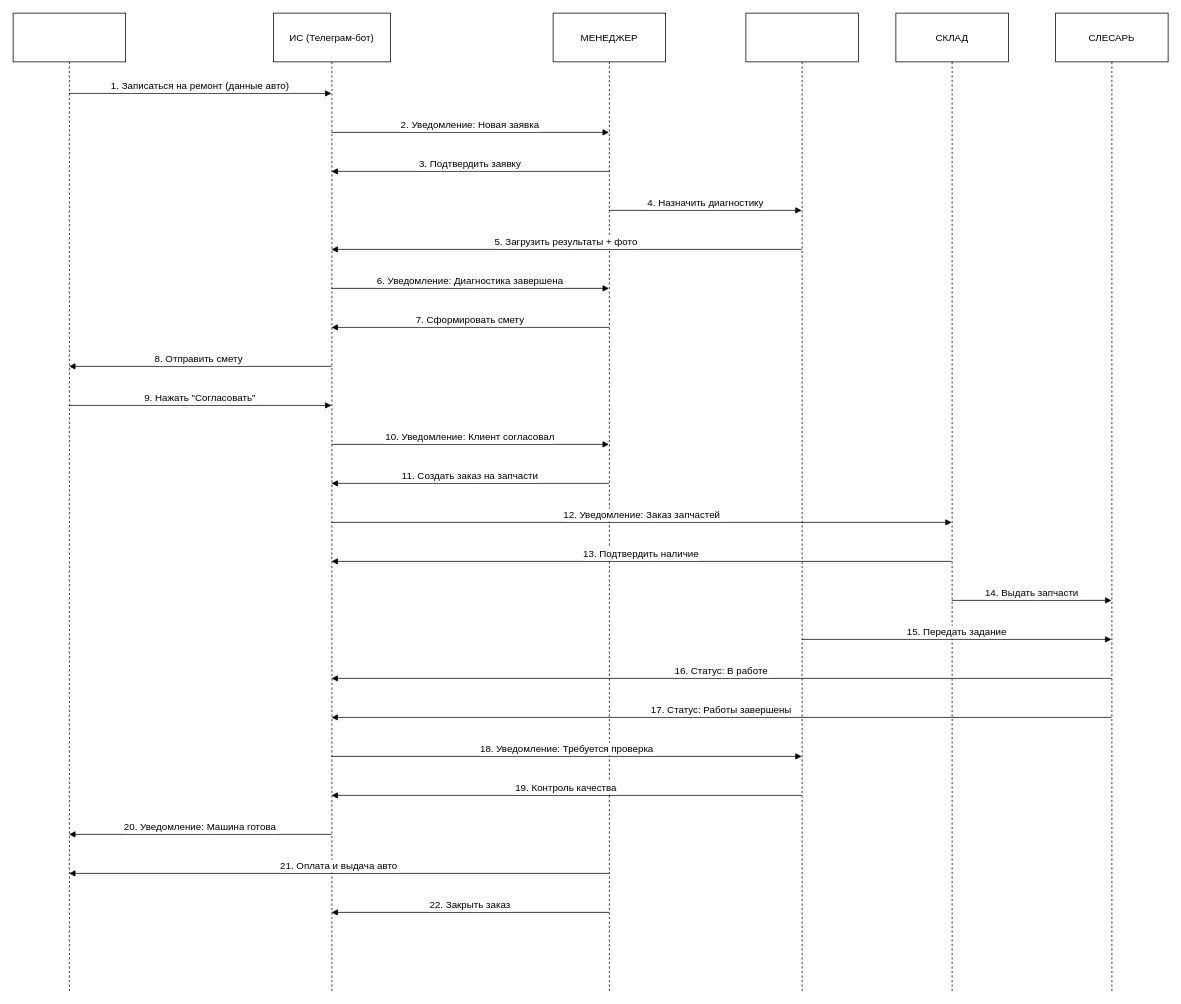
Image size: 1181x1004. Some labels were removed from this diagram. The shapes that lost their labels are listed below. From the top down, each one's box as (x1, y1, x2, y2) in pixels, then its label:
(12, 12, 126, 991): КЛИЕНТ
(745, 12, 858, 991): МЕХАНИК
